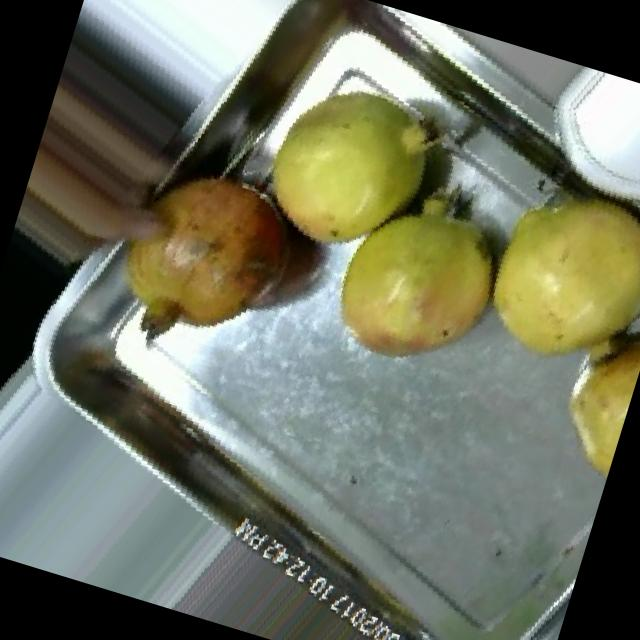fruit: (71, 111, 344, 390), (218, 36, 474, 302), (296, 144, 548, 408), (442, 143, 640, 408), (525, 304, 640, 506)
